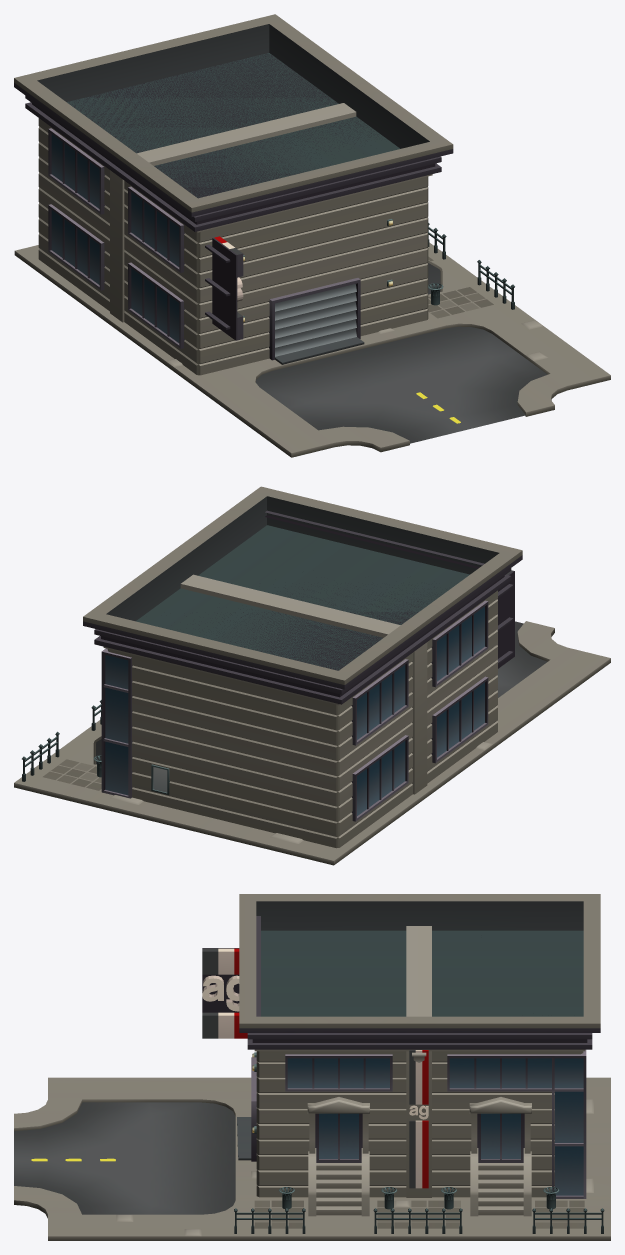
File: Building_17E.fbx
3 views of the same model, one above another, from view 1: azimuth 30°, elevation 25°; view 2: azimuth 150°, elevation 25°; view 3: azimuth 270°, elevation 25° (orthographic).
Visible parts, largest first — view 1: Building_17E, Building_17E_Logo; view 2: Building_17E, Building_17E_Logo; view 3: Building_17E, Building_17E_Logo.
Boxes of the visible parts, x1=… form: Building_17E: x1=14, y1=14, x2=610, y2=457; Building_17E_Logo: x1=212, y1=236, x2=243, y2=340; Building_17E: x1=14, y1=486, x2=610, y2=865; Building_17E_Logo: x1=497, y1=570, x2=514, y2=668; Building_17E: x1=14, y1=894, x2=610, y2=1240; Building_17E_Logo: x1=202, y1=948, x2=428, y2=1188.
Bounding box in the file's own units: 2240 × 1200 × 3500.
